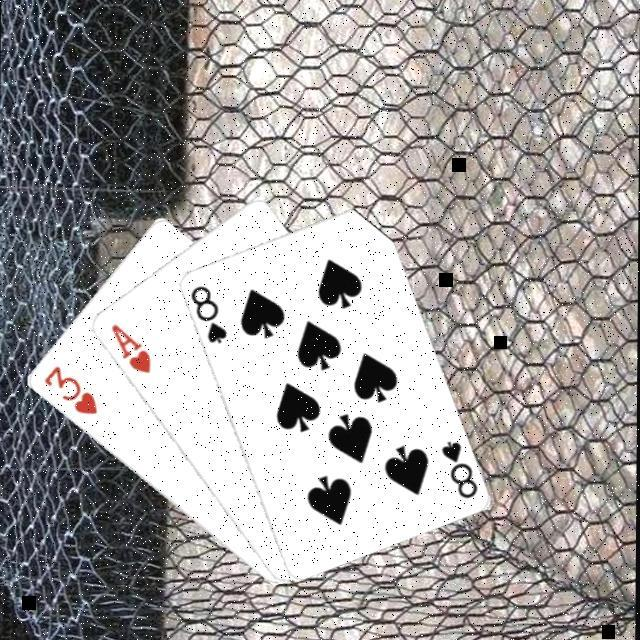3H: (38, 364, 98, 420)
8S: (436, 439, 480, 503), (185, 284, 227, 348)
AH: (105, 322, 153, 379)
